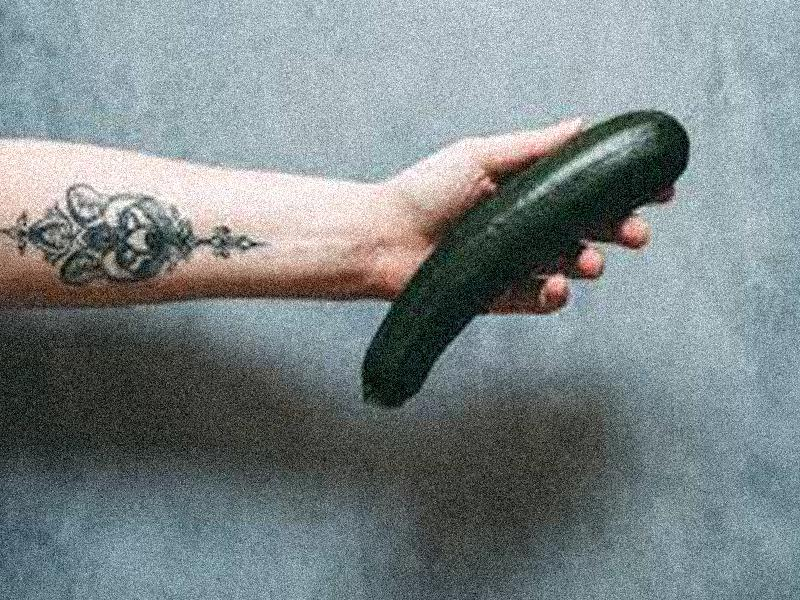Cucumber: (364, 111, 689, 407)
